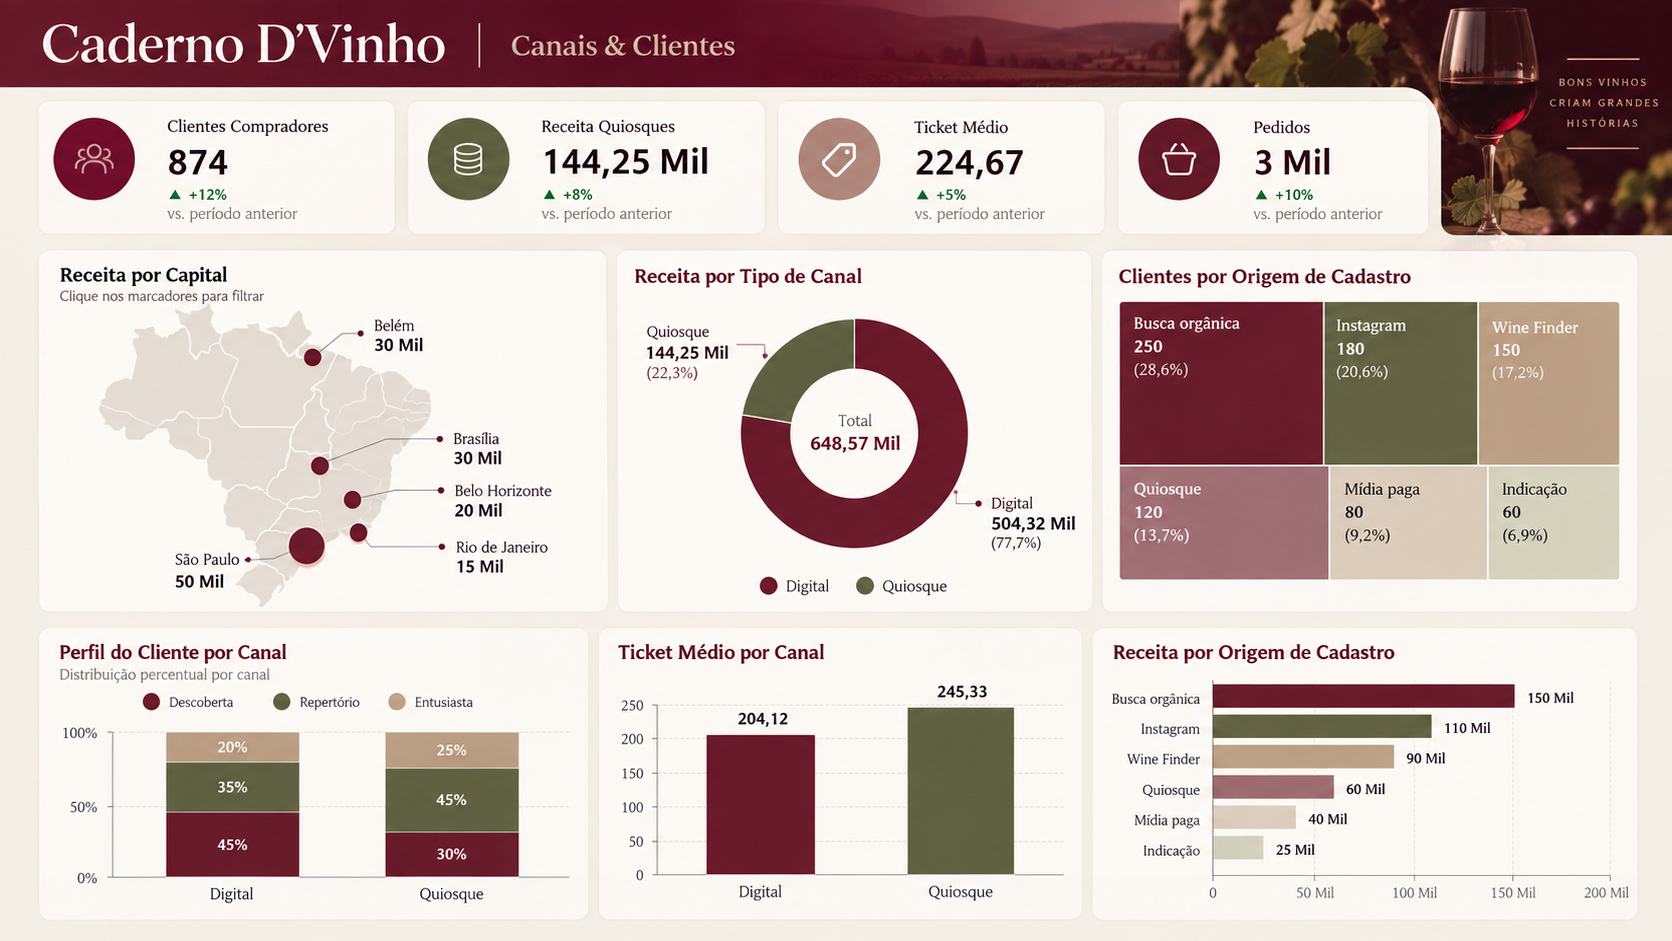

This screenshot's page, from the dashboard's own definition file:
{"tool":"powerbi","page":{"name":"Canais & Clientes","canvas":[1920,1080],"ordinal":2},"visuals":[{"type":"cardVisual","fields":{"Data":["_Medidas.Clientes Compradores"]},"box":[30,140,400,122],"z":0},{"type":"cardVisual","fields":{"Data":["_Medidas.Receita Quiosques"]},"box":[460,140.9,400,122],"z":1000},{"type":"cardVisual","fields":{"Data":["_Medidas.Ticket Médio"]},"box":[890,140.9,400,122],"z":2000},{"type":"clusteredBarChart","fields":{"Category":["Canais.canal"],"Y":["_Medidas.Receita Líquida"]},"box":[29.5,284.1,830,325],"z":3000},{"type":"clusteredBarChart","fields":{"Category":["Canais.capital"],"Y":["_Medidas.Receita Líquida"]},"box":[890.9,284.1,830,325],"z":4000},{"type":"clusteredBarChart","fields":{"Category":["Clientes.origem_cadastro"],"Y":["_Medidas.Clientes Compradores"]},"box":[30.2,629,831.7,280],"z":5000},{"type":"clusteredBarChart","fields":{"Category":["Clientes.origem_cadastro"],"Y":["_Medidas.Receita Líquida"]},"box":[898.4,628.6,814.3,279.4],"z":8000},{"type":"cardVisual","fields":{"Data":["_Medidas.Pedidos"]},"box":[1320,140.9,400,122],"z":9000},{"type":"shape","box":[0.2,0,1919.8,110],"z":9001},{"type":"textbox","box":[839.2,10,314.6,70.2],"z":9002},{"type":"textbox","box":[927.8,54.2,138.2,34],"z":9003},{"type":"shape","box":[861.1,44.4,54.2,43.1],"z":9004},{"type":"shape","box":[1075,44.4,54.2,43.1],"z":9005}]}

Visuals, with their boxes in screenshot pixels (x1, y1, x2, y2), scaled from the page's 1920x1080 canvas onto the 1672x941 screenshot:
cardVisual - _Medidas.Clientes Compradores: BBox(26, 122, 374, 228)
cardVisual - _Medidas.Receita Quiosques: BBox(401, 123, 749, 229)
cardVisual - _Medidas.Ticket Médio: BBox(775, 123, 1123, 229)
clusteredBarChart - Canais.canal x _Medidas.Receita Líquida: BBox(26, 248, 748, 531)
clusteredBarChart - Canais.capital x _Medidas.Receita Líquida: BBox(776, 248, 1499, 531)
clusteredBarChart - Clientes.origem_cadastro x _Medidas.Clientes Compradores: BBox(26, 548, 751, 792)
clusteredBarChart - Clientes.origem_cadastro x _Medidas.Receita Líquida: BBox(782, 548, 1491, 791)
cardVisual - _Medidas.Pedidos: BBox(1150, 123, 1498, 229)
shape: BBox(0, 0, 1671, 96)
textbox: BBox(731, 9, 1005, 70)
textbox: BBox(808, 47, 928, 77)
shape: BBox(750, 39, 797, 76)
shape: BBox(936, 39, 983, 76)
